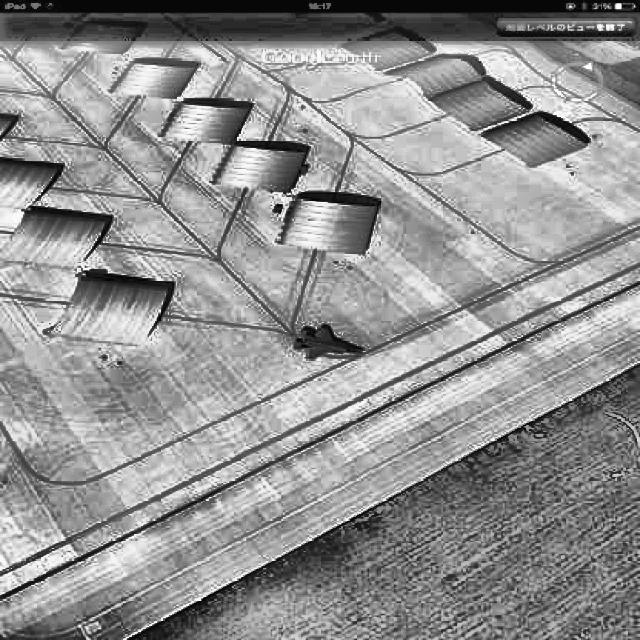F35: (294, 327, 363, 359)
